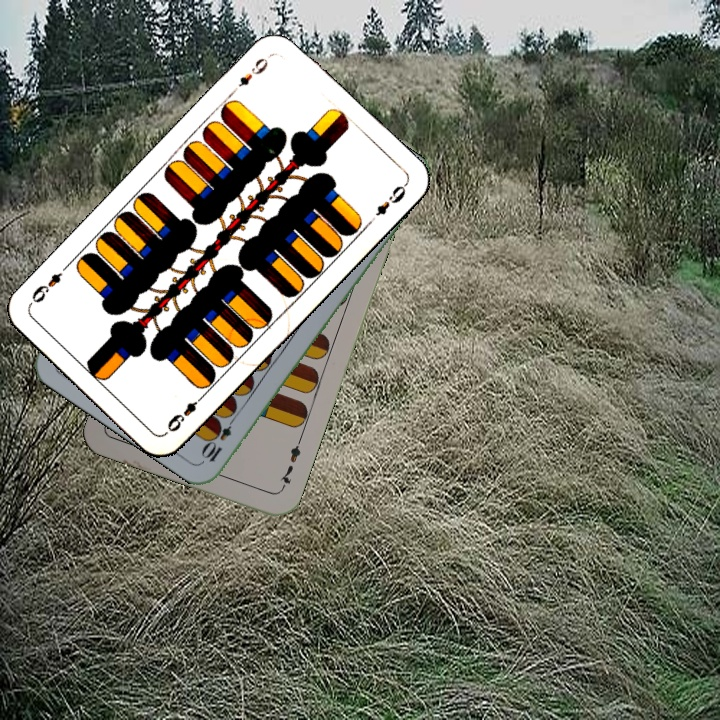E10: (199, 410, 240, 465)
E7: (276, 435, 304, 493)
E9: (163, 390, 208, 435), (234, 51, 273, 90)
